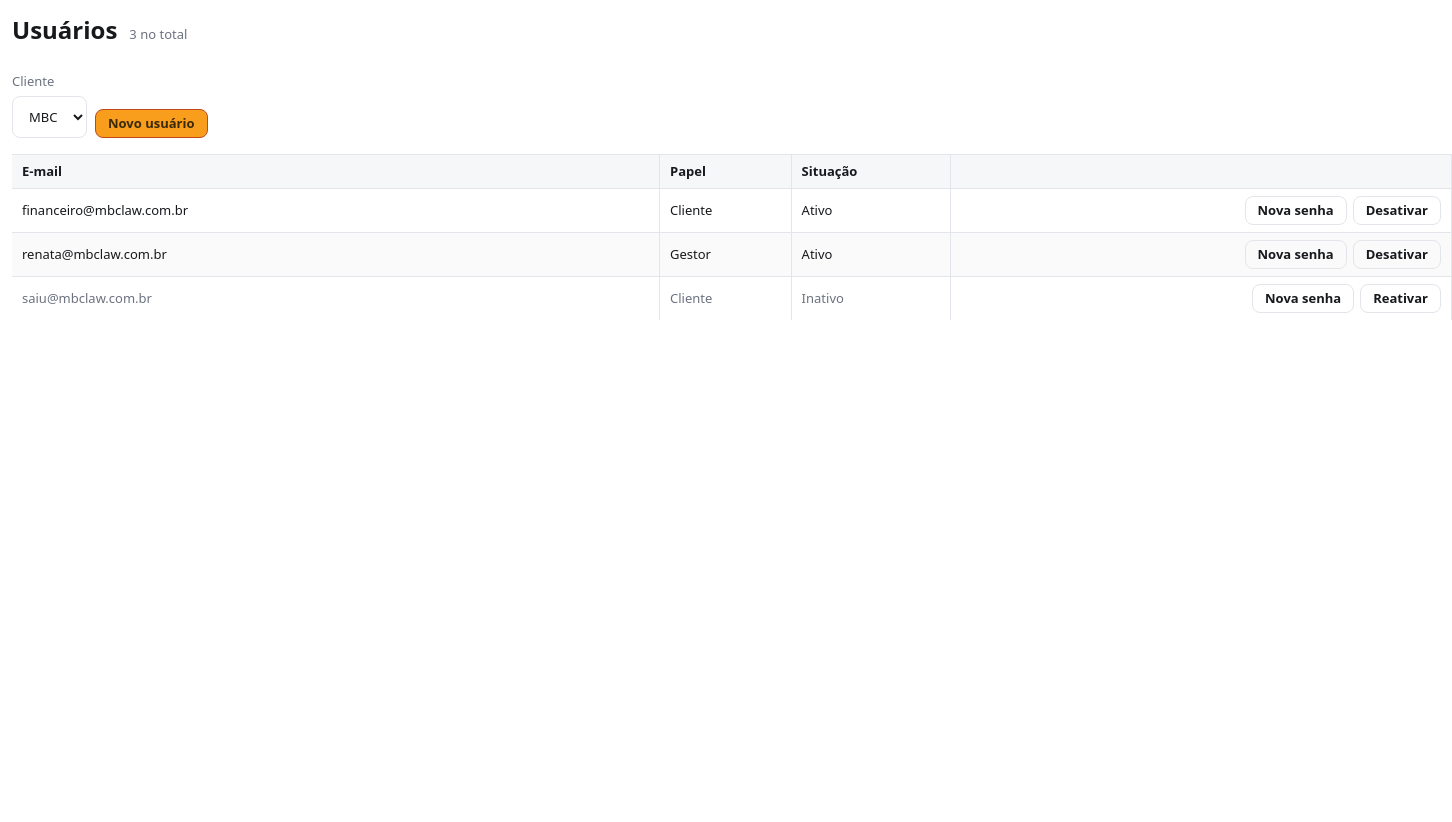
Scenario: UsuariosPage › creates a user and shows the temporary password once, with a copy button
Check: the text "financeiro@mbclaw.com.br" is shown, box left=12, top=189, right=660, bottom=233
Click the button "Novo usuário" at (151, 123), box left=95, top=108, right=208, bottom=138
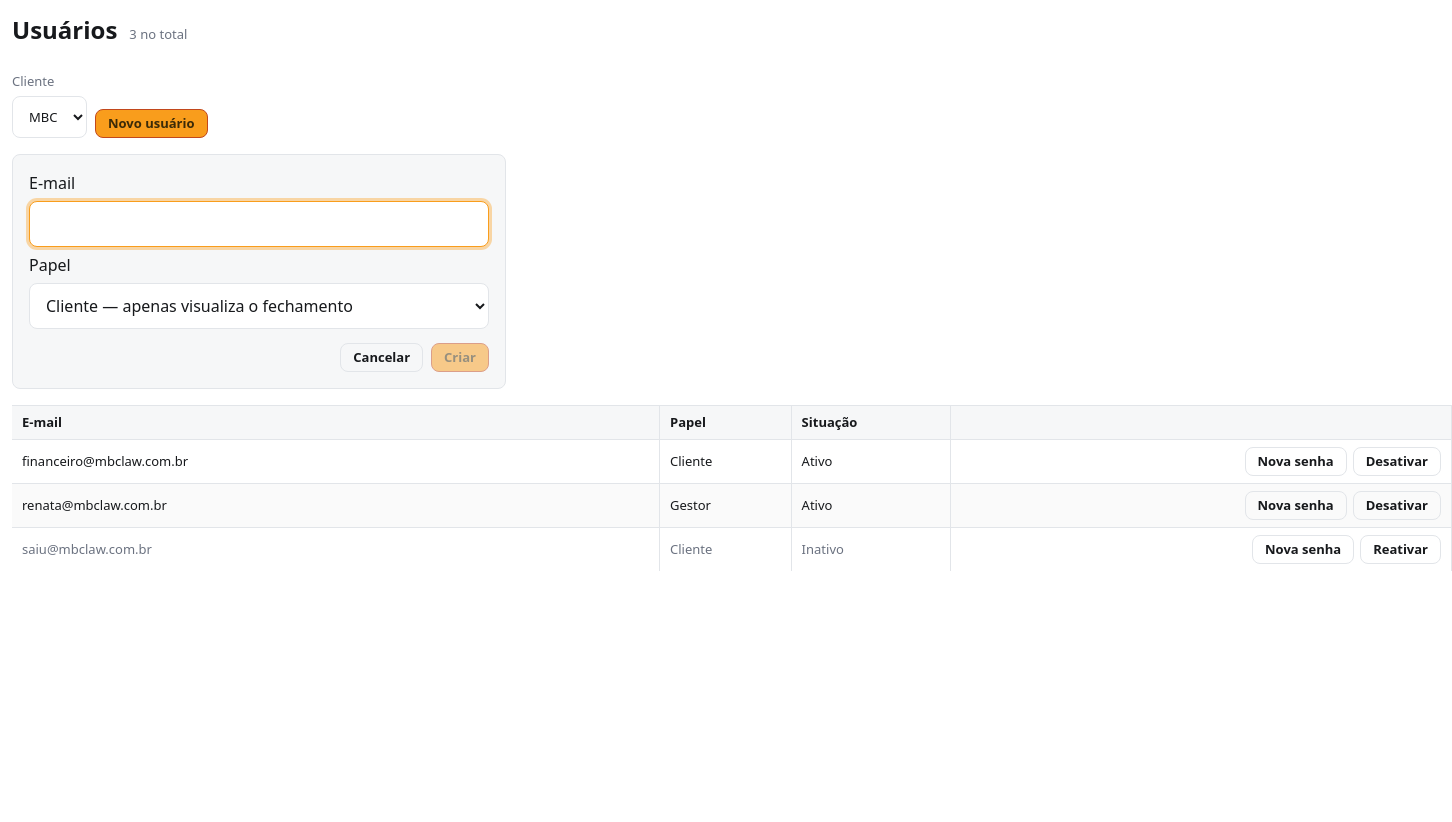
Type "novo@mbclaw.com.br" into the field labelled "E-mail" at (259, 224), box left=29, top=200, right=489, bottom=246
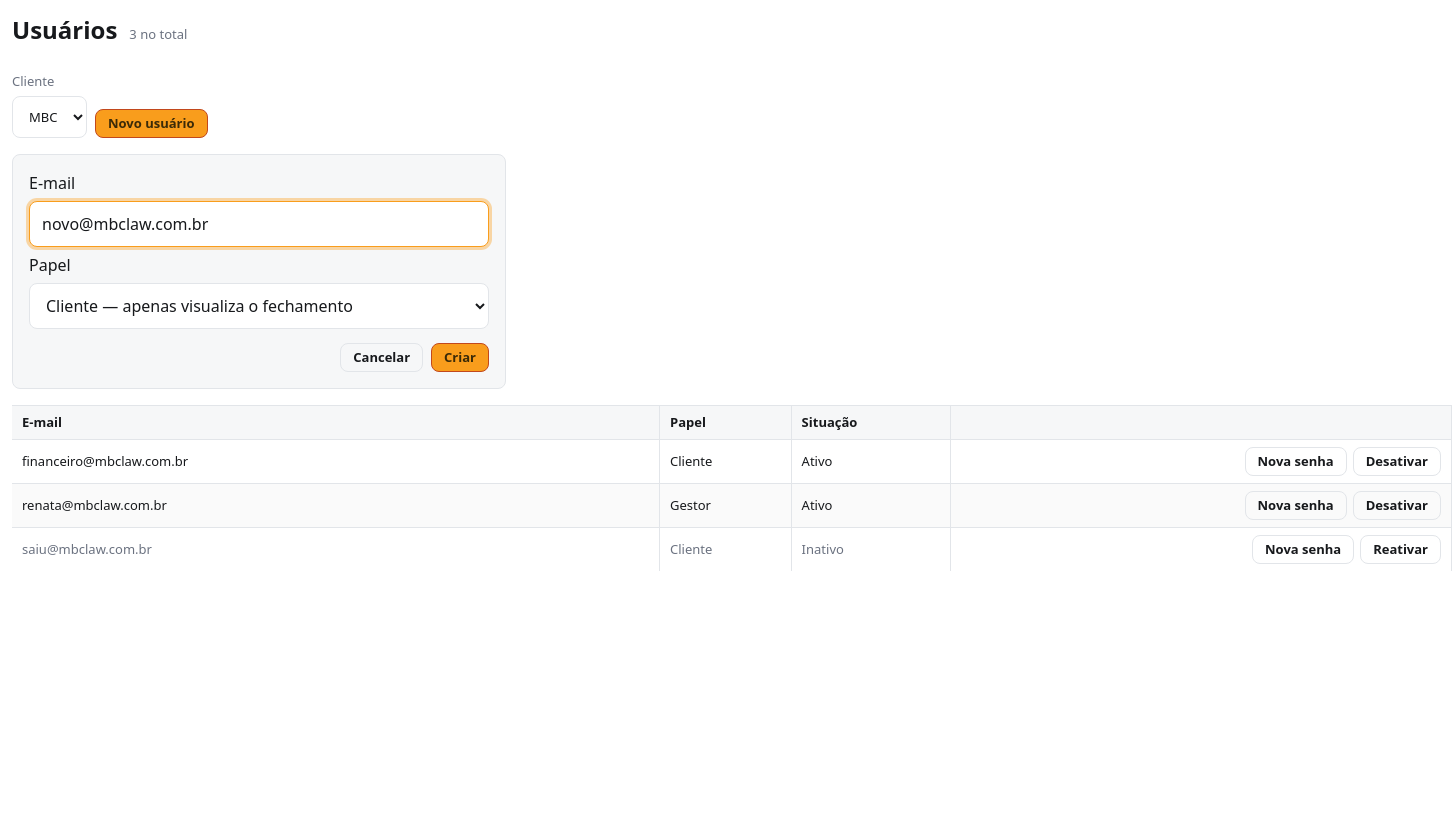
Click the button "Criar" at (460, 357), box left=431, top=342, right=489, bottom=372
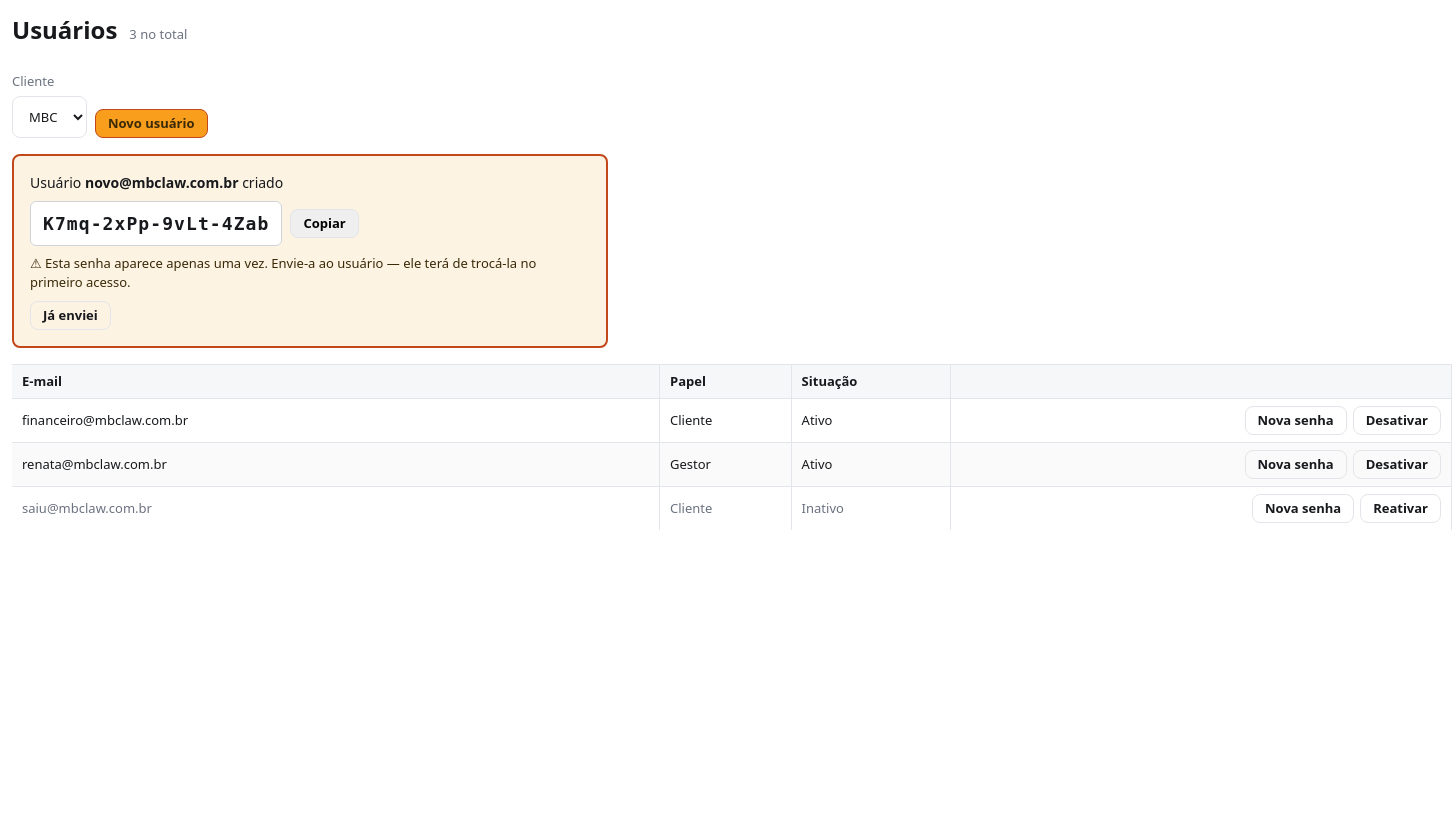
Check: the text "K7mq-2xPp-9vLt-4Zab" is shown, box left=30, top=200, right=282, bottom=246
Check: the button "Copiar" is shown, box left=290, top=208, right=359, bottom=238
Check: the text "aparece apenas uma vez" is shown, box left=30, top=254, right=536, bottom=291
